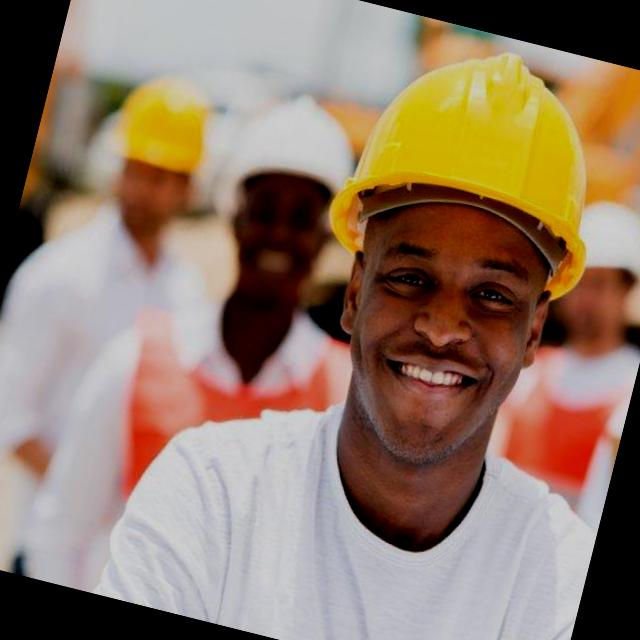helmet: (314, 15, 640, 316)
no-vest: (97, 357, 612, 640)
